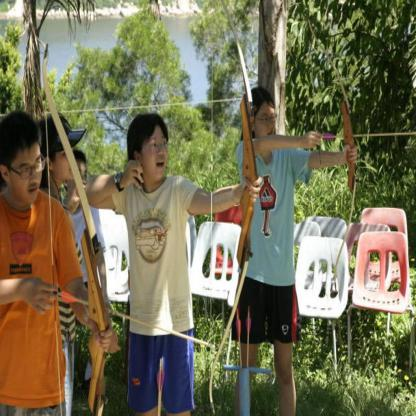face: (11, 143, 44, 205), (141, 126, 169, 179), (53, 140, 77, 184), (255, 105, 276, 143), (72, 160, 88, 201)
